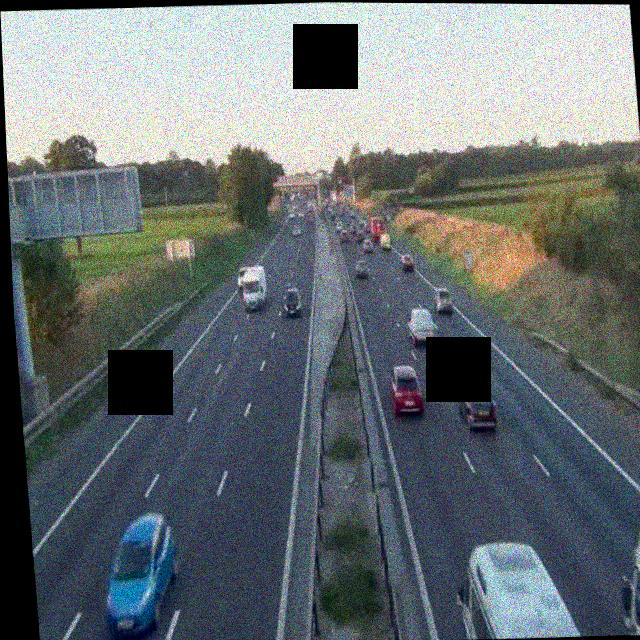bus: (368, 216, 385, 245)
car: (99, 513, 183, 640), (456, 378, 498, 431), (389, 364, 423, 414), (407, 305, 436, 346), (281, 286, 302, 317), (431, 286, 453, 315), (354, 259, 369, 277), (379, 232, 393, 250), (400, 253, 413, 271), (363, 238, 374, 251), (340, 230, 350, 243), (291, 223, 301, 236), (306, 209, 313, 221)
truck: (454, 539, 583, 640), (616, 515, 640, 635), (238, 263, 268, 310)
